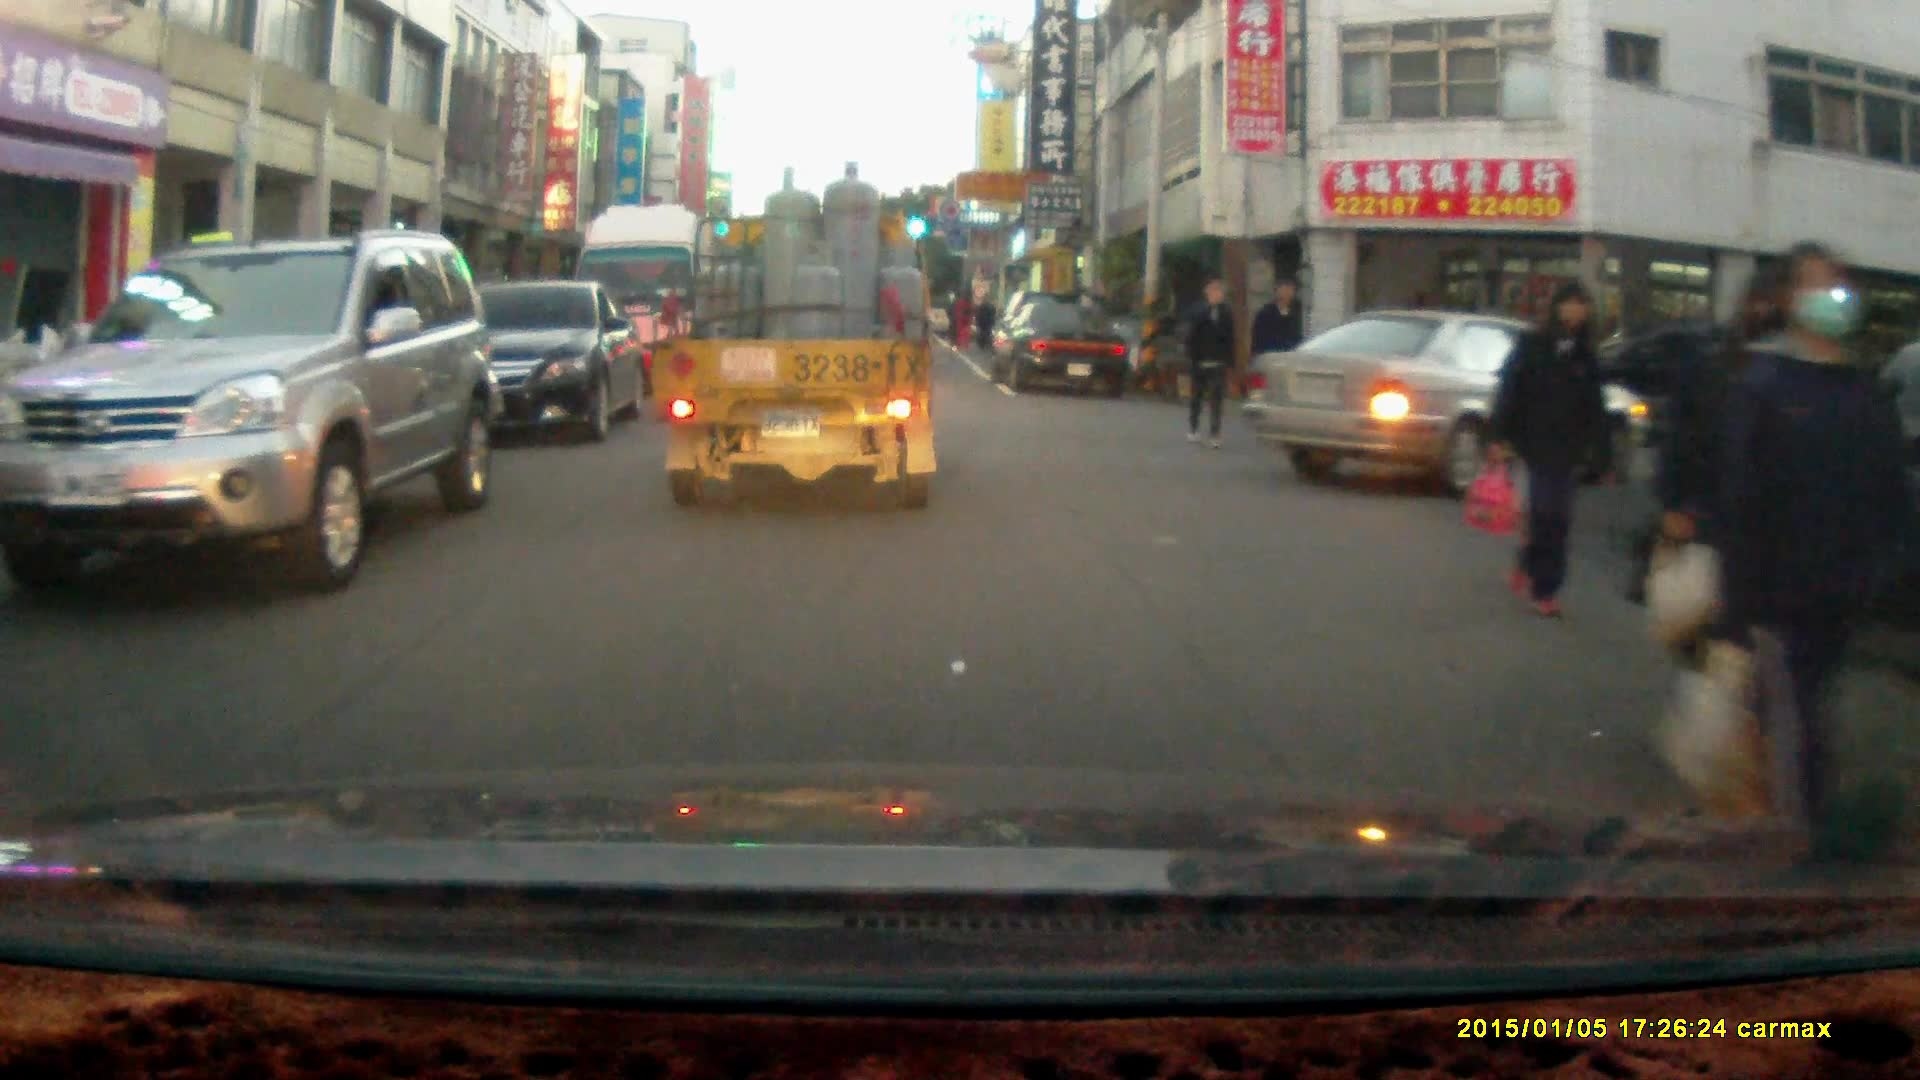pedestrian: (1715, 236, 1897, 848), (1652, 272, 1808, 770), (1490, 279, 1616, 620), (1247, 277, 1308, 445), (1181, 271, 1237, 451), (971, 287, 998, 355)
vehicle: (2, 228, 506, 601), (651, 159, 938, 518), (1251, 310, 1657, 506), (403, 280, 642, 447), (571, 205, 740, 403), (986, 302, 1134, 400)
